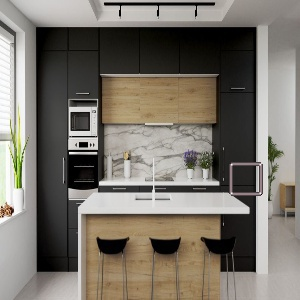square: (228, 162, 264, 197)
